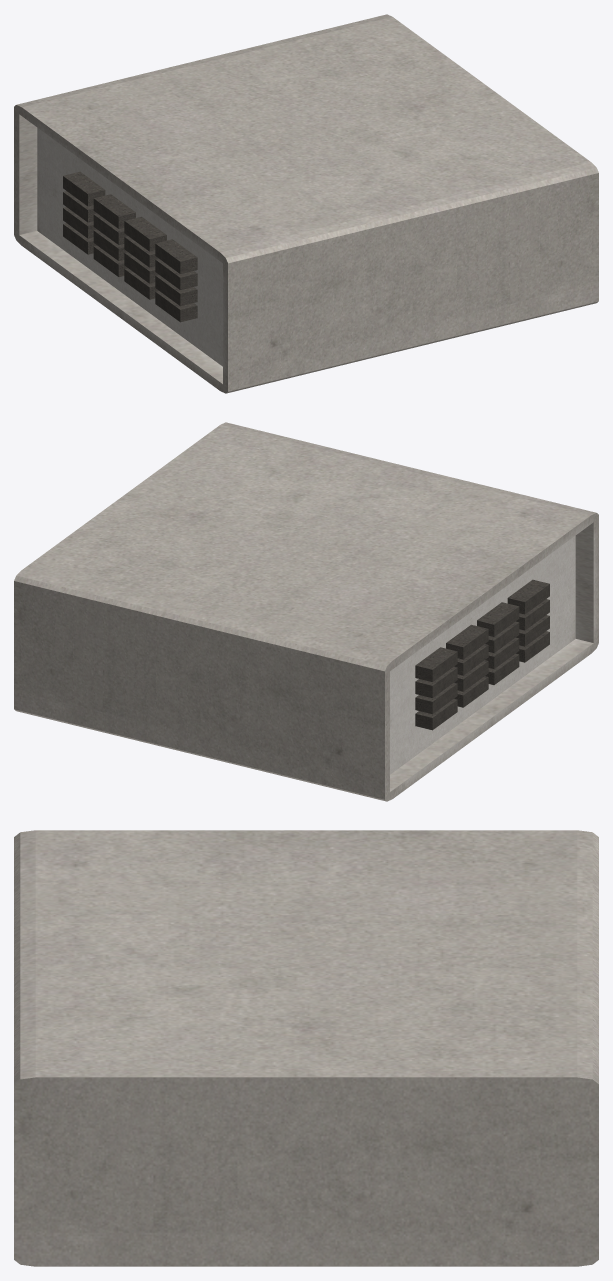
The model's file is Button_Console.glb.
The picture shows the model from 3 angles, top to bottom: view 1: azimuth 30°, elevation 25°; view 2: azimuth 150°, elevation 25°; view 3: azimuth 270°, elevation 25°; orthographic projection. The views are drawn at different scales.
Visible parts, largest first — view 1: ButtonConsole; view 2: ButtonConsole; view 3: ButtonConsole.
Boxes of the visible parts, x1,y1,x2,y2 form: ButtonConsole: (14, 14, 598, 393); ButtonConsole: (14, 422, 598, 801); ButtonConsole: (14, 830, 598, 1266).
Bounding box in the file's own units: 1.4 × 0.4989 × 1.4.
Materials: 1 (1 with a texture image).
